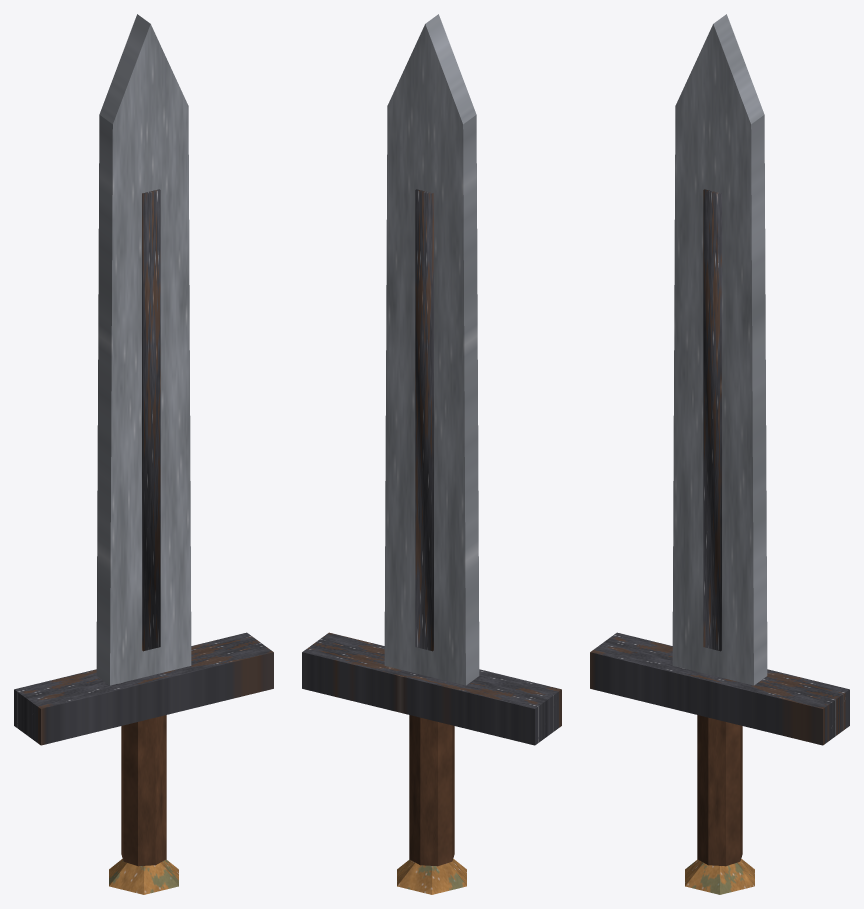
Rendered from rival_brannoch_sword.obj.
The picture shows the model from 3 angles, left to right: view 1: azimuth 30°, elevation 25°; view 2: azimuth 150°, elevation 25°; view 3: azimuth 330°, elevation 25°; orthographic projection.
Parts seen in each view (by area): view 1: rival_brannoch_sword; view 2: rival_brannoch_sword; view 3: rival_brannoch_sword.
Part boxes in pixels (bbox=[...]): rival_brannoch_sword: bbox=[14, 14, 273, 894]; rival_brannoch_sword: bbox=[302, 14, 561, 894]; rival_brannoch_sword: bbox=[590, 14, 849, 894].
Size of the model in its own units: 0.5 by 1.79 by 0.13.
